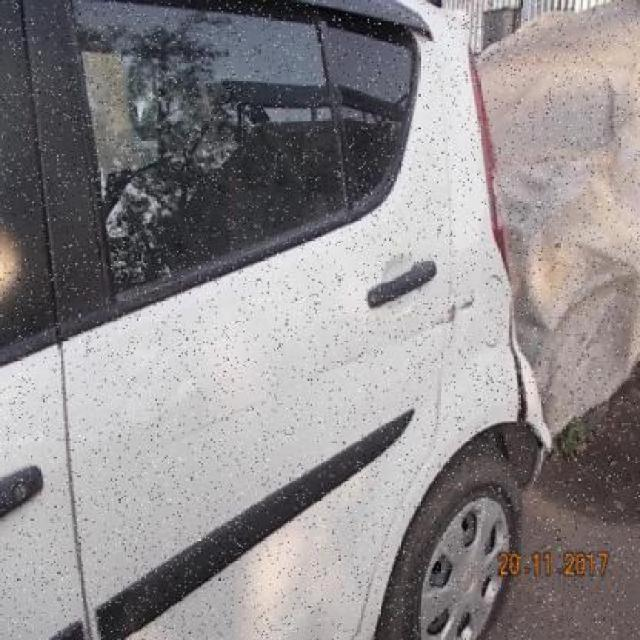doorouter-dent: (74, 244, 447, 640)
quaterpanel-dent: (442, 208, 526, 551)
